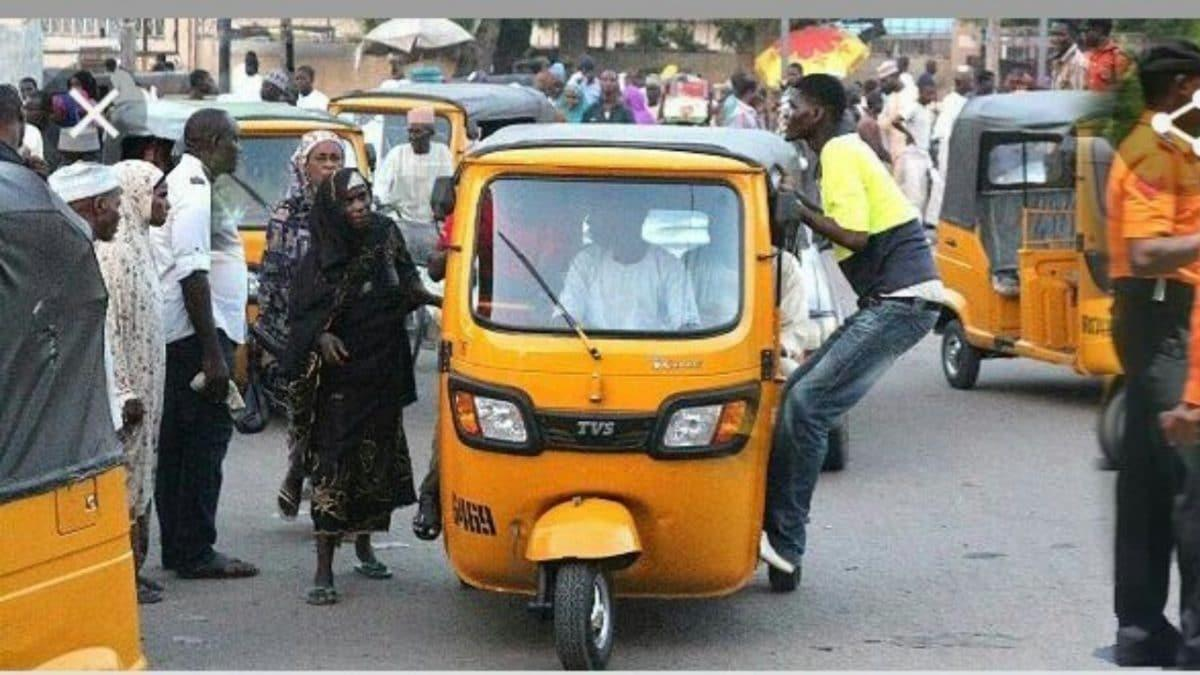keke: (436, 106, 810, 664), (0, 137, 145, 675), (942, 72, 1134, 413)
